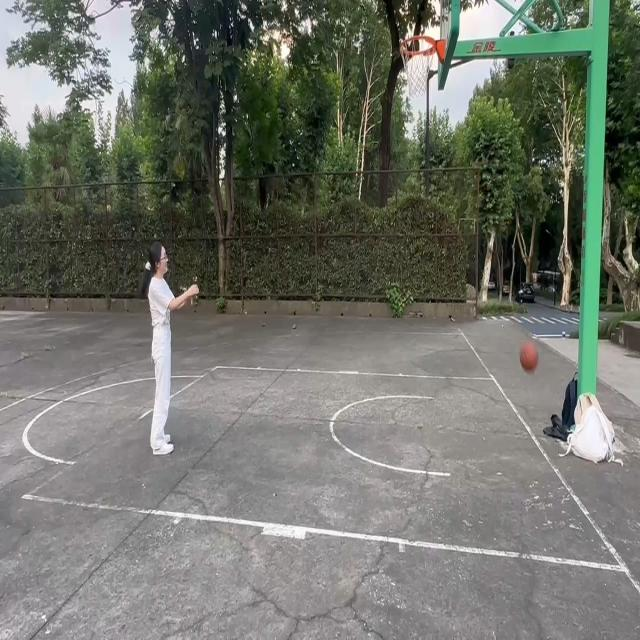basketball: (399, 38, 438, 103)
rim: (520, 341, 538, 372)
